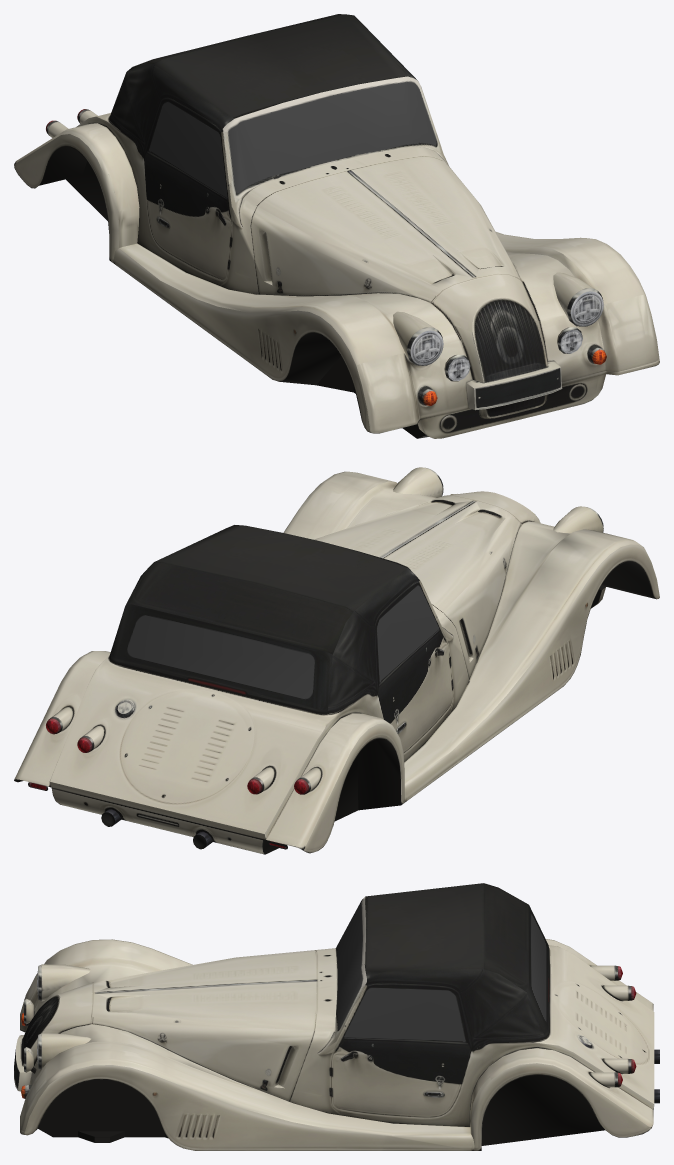
Rendered from Mini cop.fbx.
The picture shows the model from 3 angles, top to bottom: view 1: azimuth 30°, elevation 25°; view 2: azimuth 150°, elevation 25°; view 3: azimuth 270°, elevation 25°; orthographic projection. The views are drawn at different scales.
Visible parts, largest first — view 1: mini_cop; view 2: mini_cop; view 3: mini_cop.
Boxes of the visible parts, box(x1,y1,x2,y2) form: mini_cop: box(14, 14, 659, 438); mini_cop: box(14, 467, 659, 854); mini_cop: box(14, 883, 659, 1150).
Bounding box in the file's own units: 622 × 417 × 1356.
Materials: 1 (1 with a texture image).
